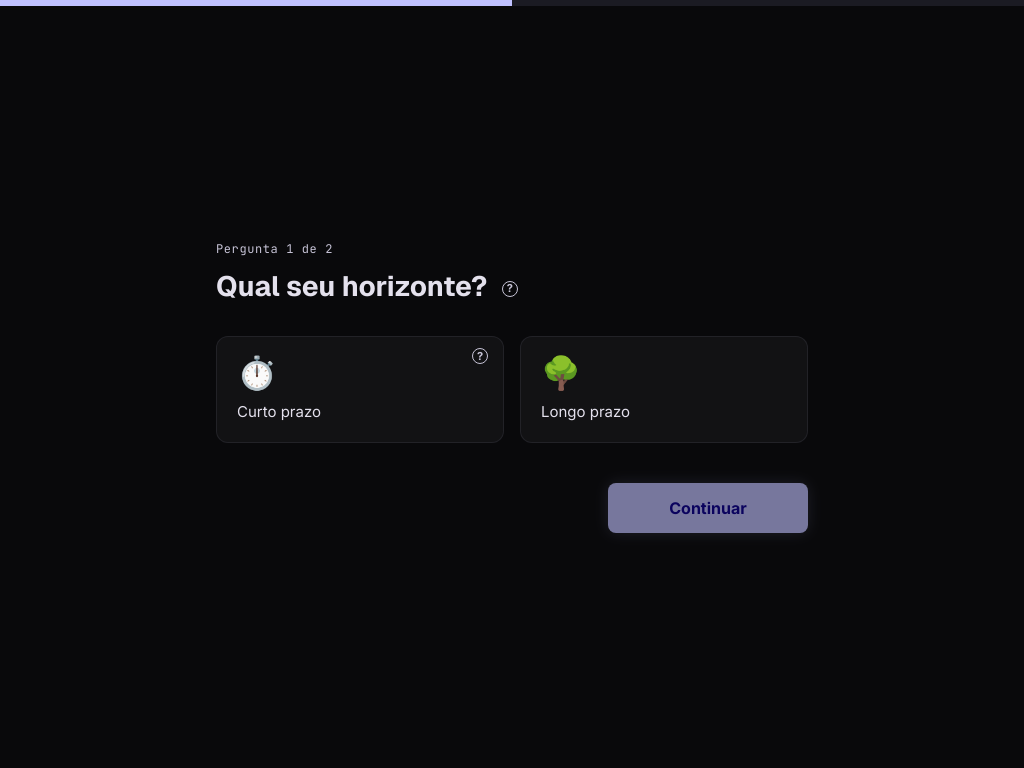
it: QuizComponent › botão Continuar deve começar desabilitado até selecionar uma opção
Check: the button "Continuar" is disabled, box left=608, top=483, right=808, bottom=533
Click the button "⏱️ Curto prazo": click(257, 373) left=216, top=336, right=504, bottom=443
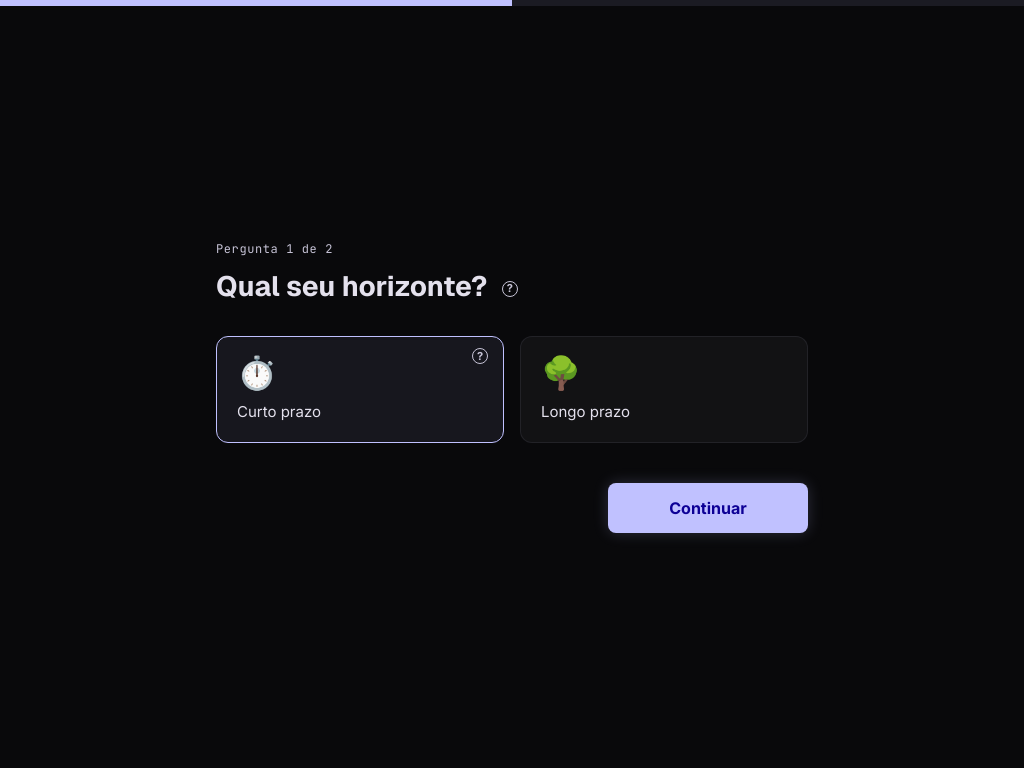
Check: the button "Continuar" is enabled, box left=608, top=483, right=808, bottom=533
